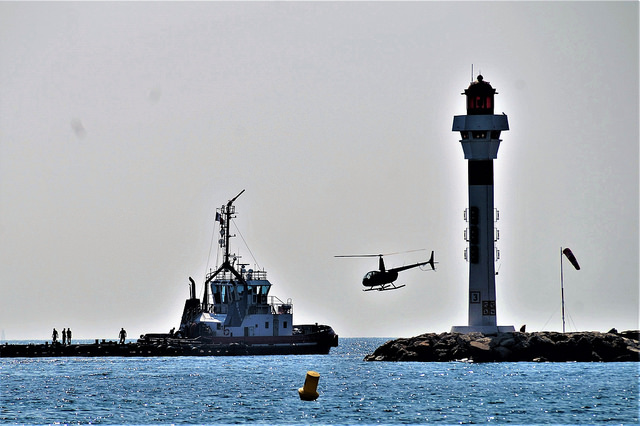tug_boat: (141, 199, 339, 356)
